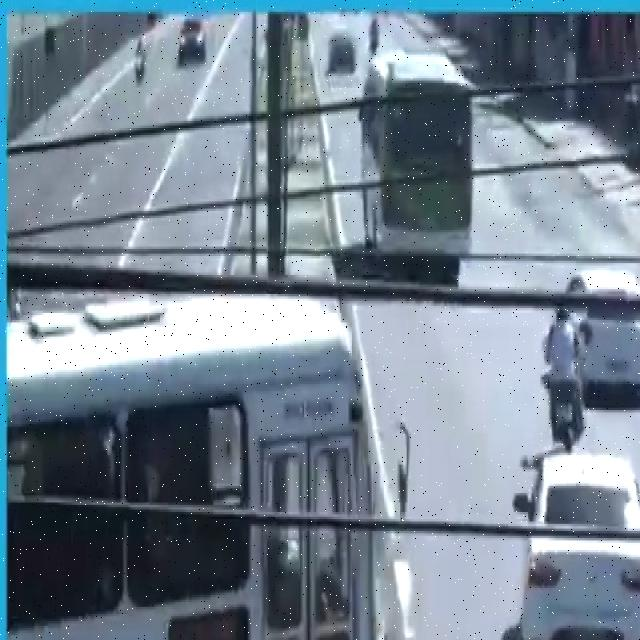biker: (542, 298, 584, 458)
car: (513, 443, 640, 640), (561, 261, 640, 403), (173, 17, 210, 80)
truck: (0, 289, 385, 640), (356, 56, 475, 280)
